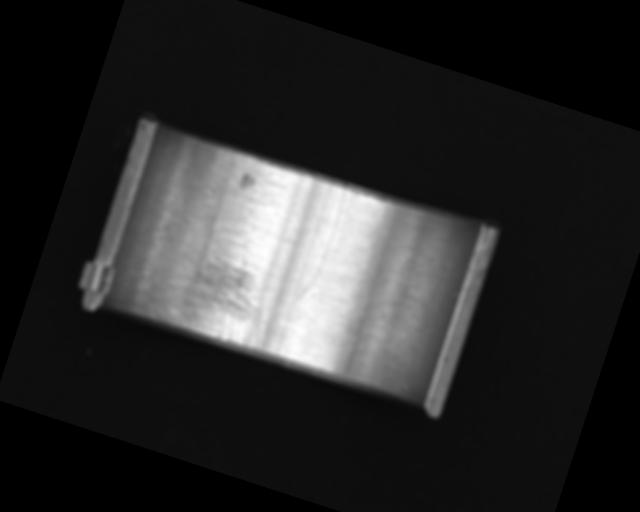bruise: (237, 171, 258, 193)
nick: (295, 181, 350, 305)
scratch: (152, 234, 287, 354)
